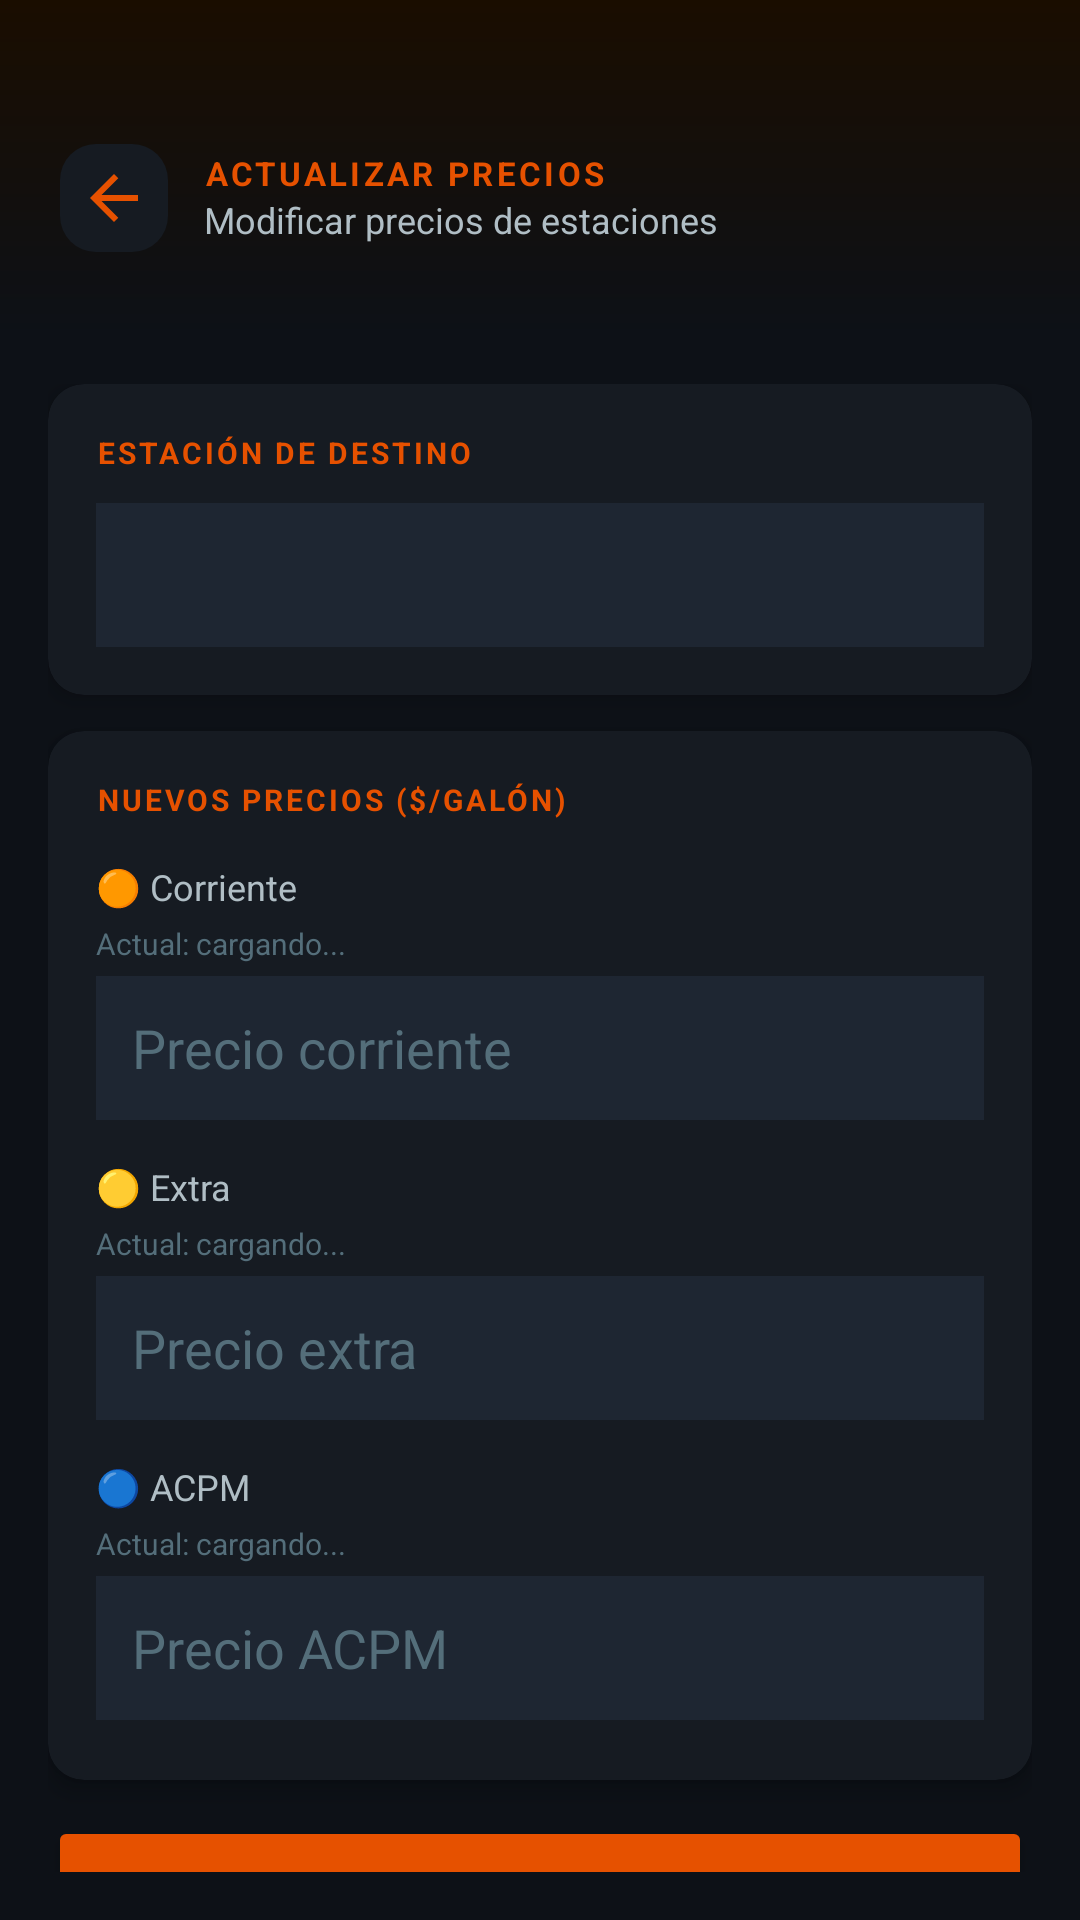

Named icons in this screenshot (1080px×1920px) and their bounding boxes, (x1, y1, x2, y2):
Volver: (60, 144, 168, 252)
